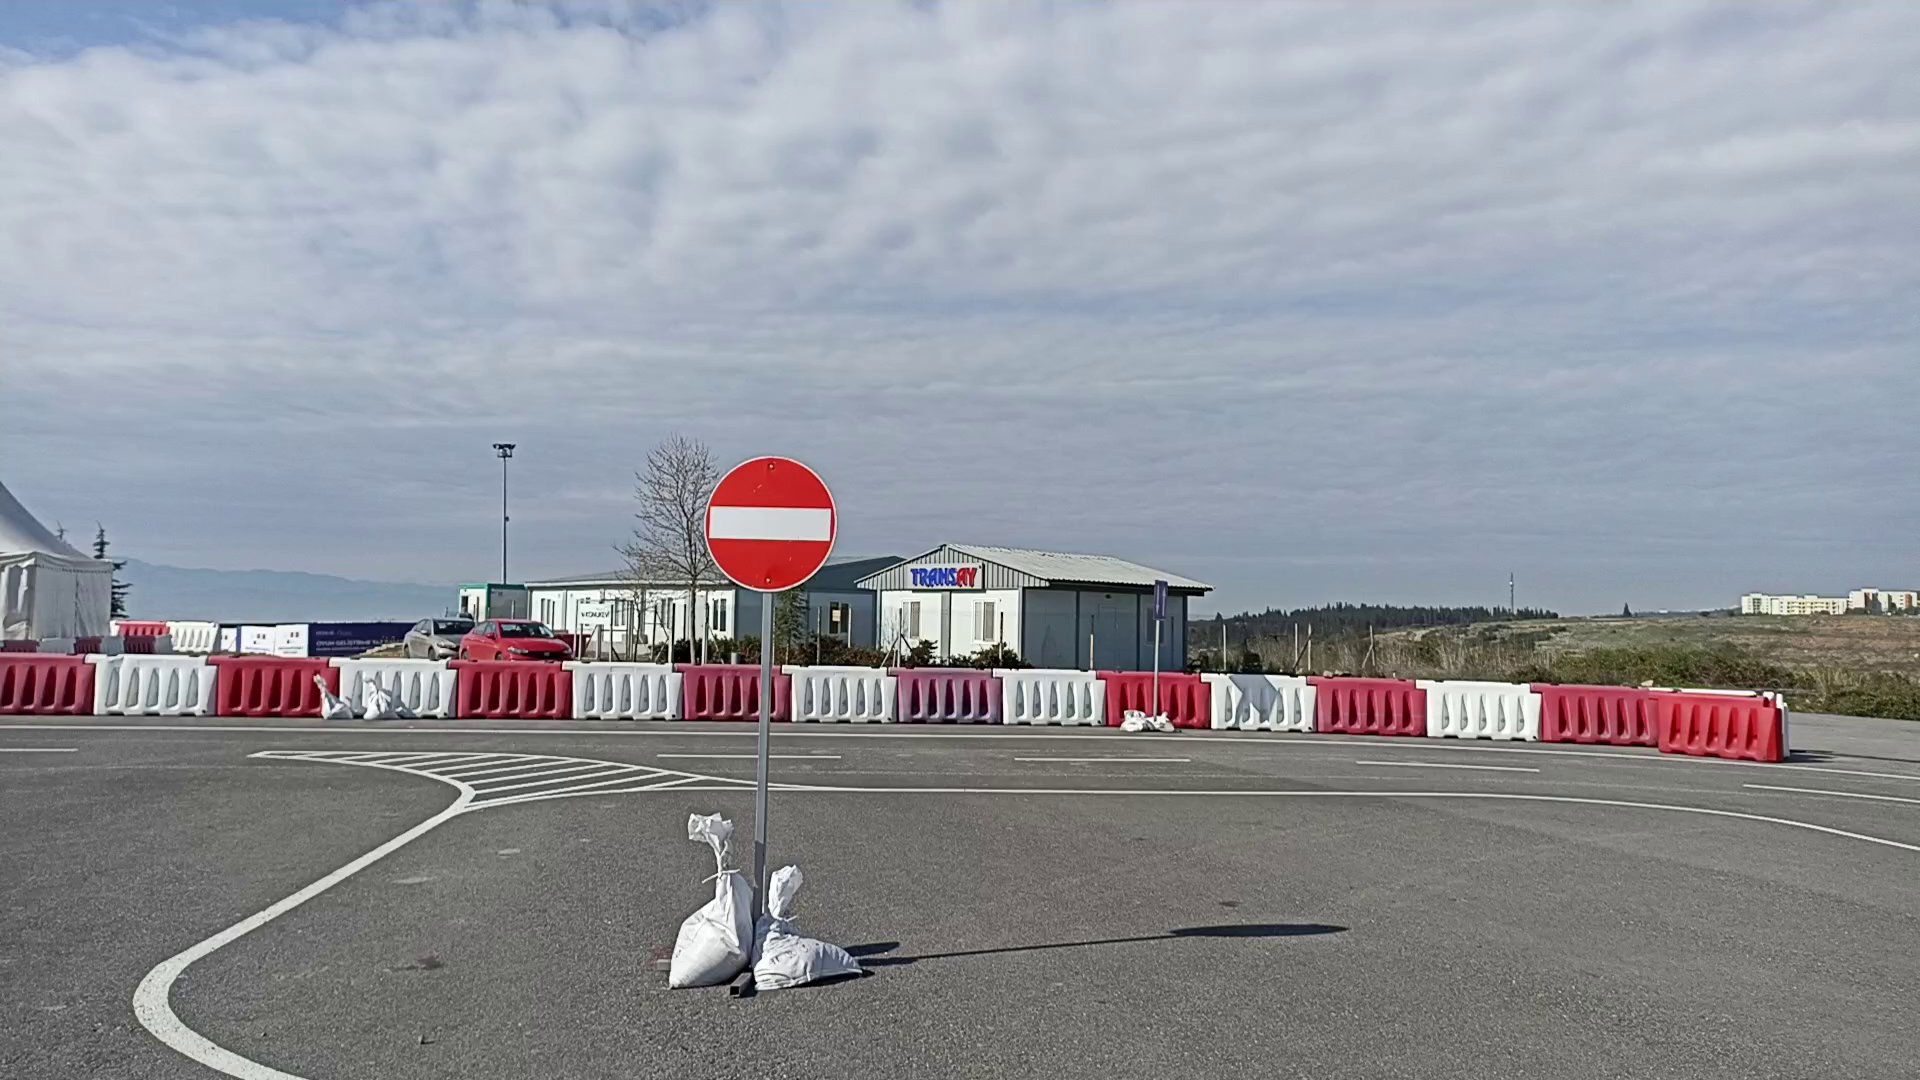noentryway: (702, 450, 839, 597)
